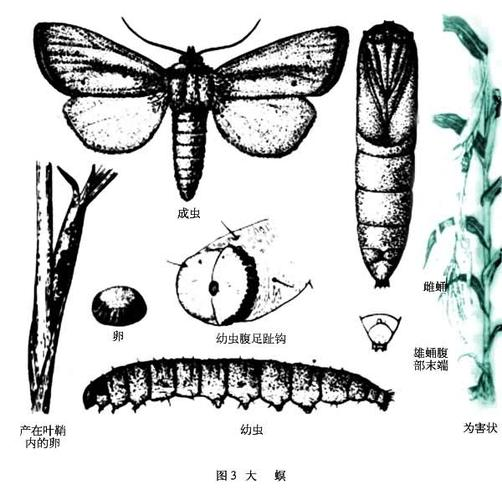Noctuidae: (31, 15, 349, 205)
